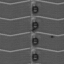dust: (50, 34, 54, 38)
